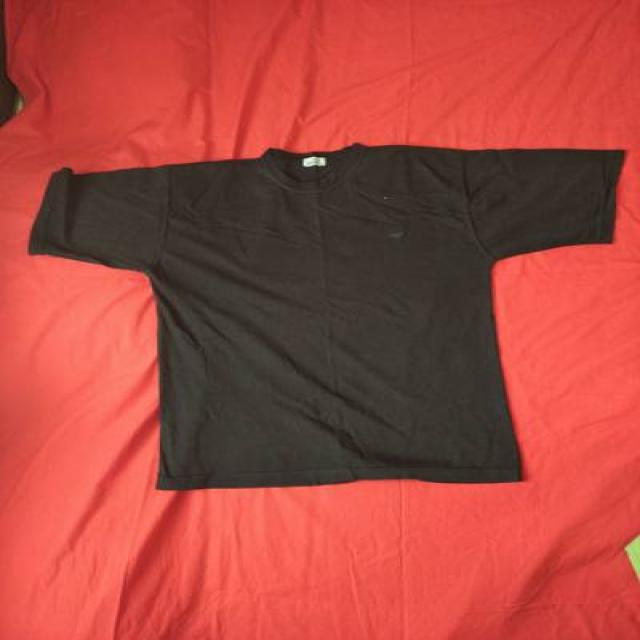non-organik: (26, 128, 630, 496)
